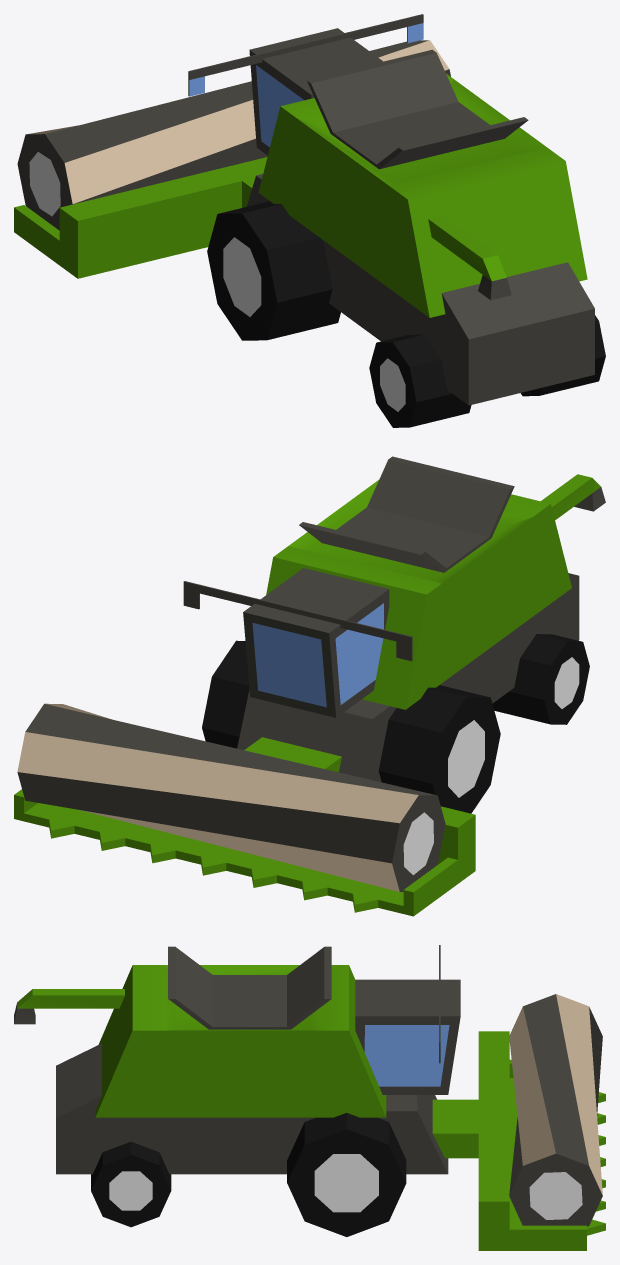
File: Combine.fbx
The picture shows the model from 3 angles, top to bottom: view 1: azimuth 30°, elevation 25°; view 2: azimuth 150°, elevation 25°; view 3: azimuth 270°, elevation 25°; orthographic projection. The views are drawn at different scales.
Visible parts, largest first — view 1: Combine, Roller, Wheely Big, Wheely Smol.; view 2: Combine, Roller, Wheely Big, Wheely Smol.; view 3: Combine, Roller, Wheely Big, Wheely Smol..
Boxes of the visible parts, box(x1,y1,x2,y2) form: Combine: box(14, 14, 594, 405); Roller: box(17, 40, 450, 230); Wheely Big: box(207, 201, 340, 340); Wheely Smol.: box(369, 315, 605, 427); Combine: box(14, 456, 605, 916); Roller: box(17, 703, 445, 891); Wheely Big: box(202, 640, 500, 813); Wheely Smol.: box(492, 634, 589, 724); Combine: box(14, 945, 605, 1250); Roller: box(509, 994, 602, 1226); Wheely Big: box(287, 1113, 406, 1236); Wheely Smol.: box(91, 1141, 171, 1227).
Bounding box in the file's own units: 0.4248 × 0.2504 × 0.6241.
